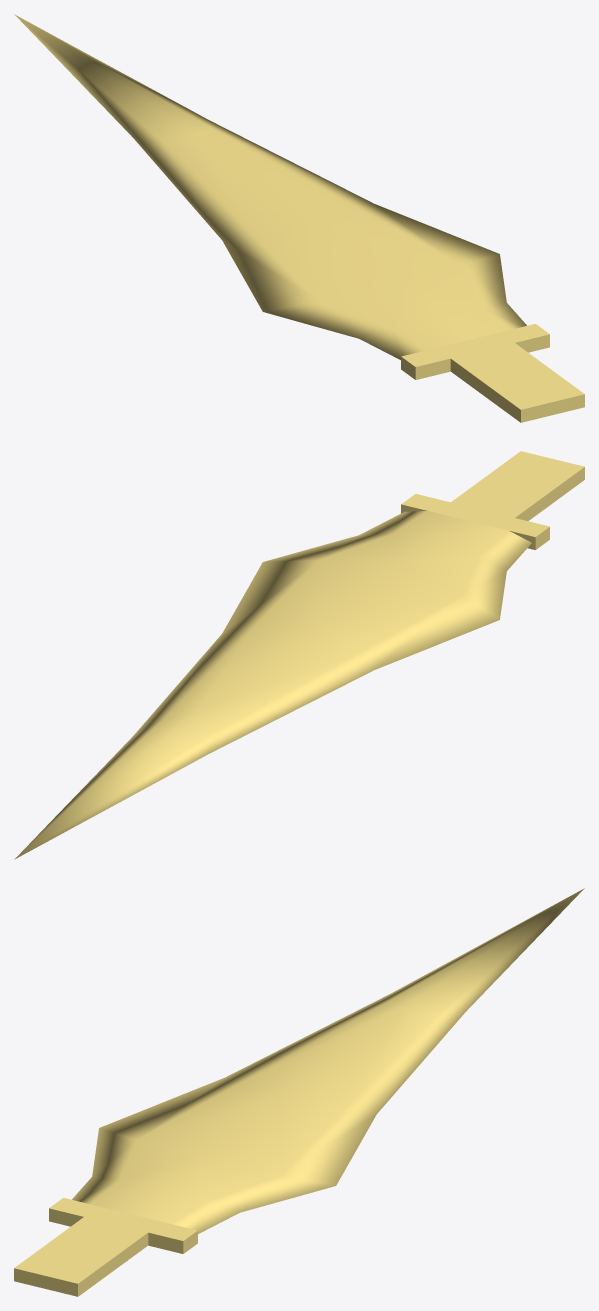
File: knife.FBX
The picture shows the model from 3 angles, top to bottom: view 1: azimuth 30°, elevation 25°; view 2: azimuth 150°, elevation 25°; view 3: azimuth 330°, elevation 25°; orthographic projection.
Visible parts, largest first — view 1: Tube001; view 2: Tube001; view 3: Tube001.
Boxes of the visible parts, x1,y1,x2,y2 form: Tube001: (14,14,584,422); Tube001: (14,451,584,859); Tube001: (14,888,584,1296).
Size of the model in its own units: 50.62 by 5.95 by 199.
